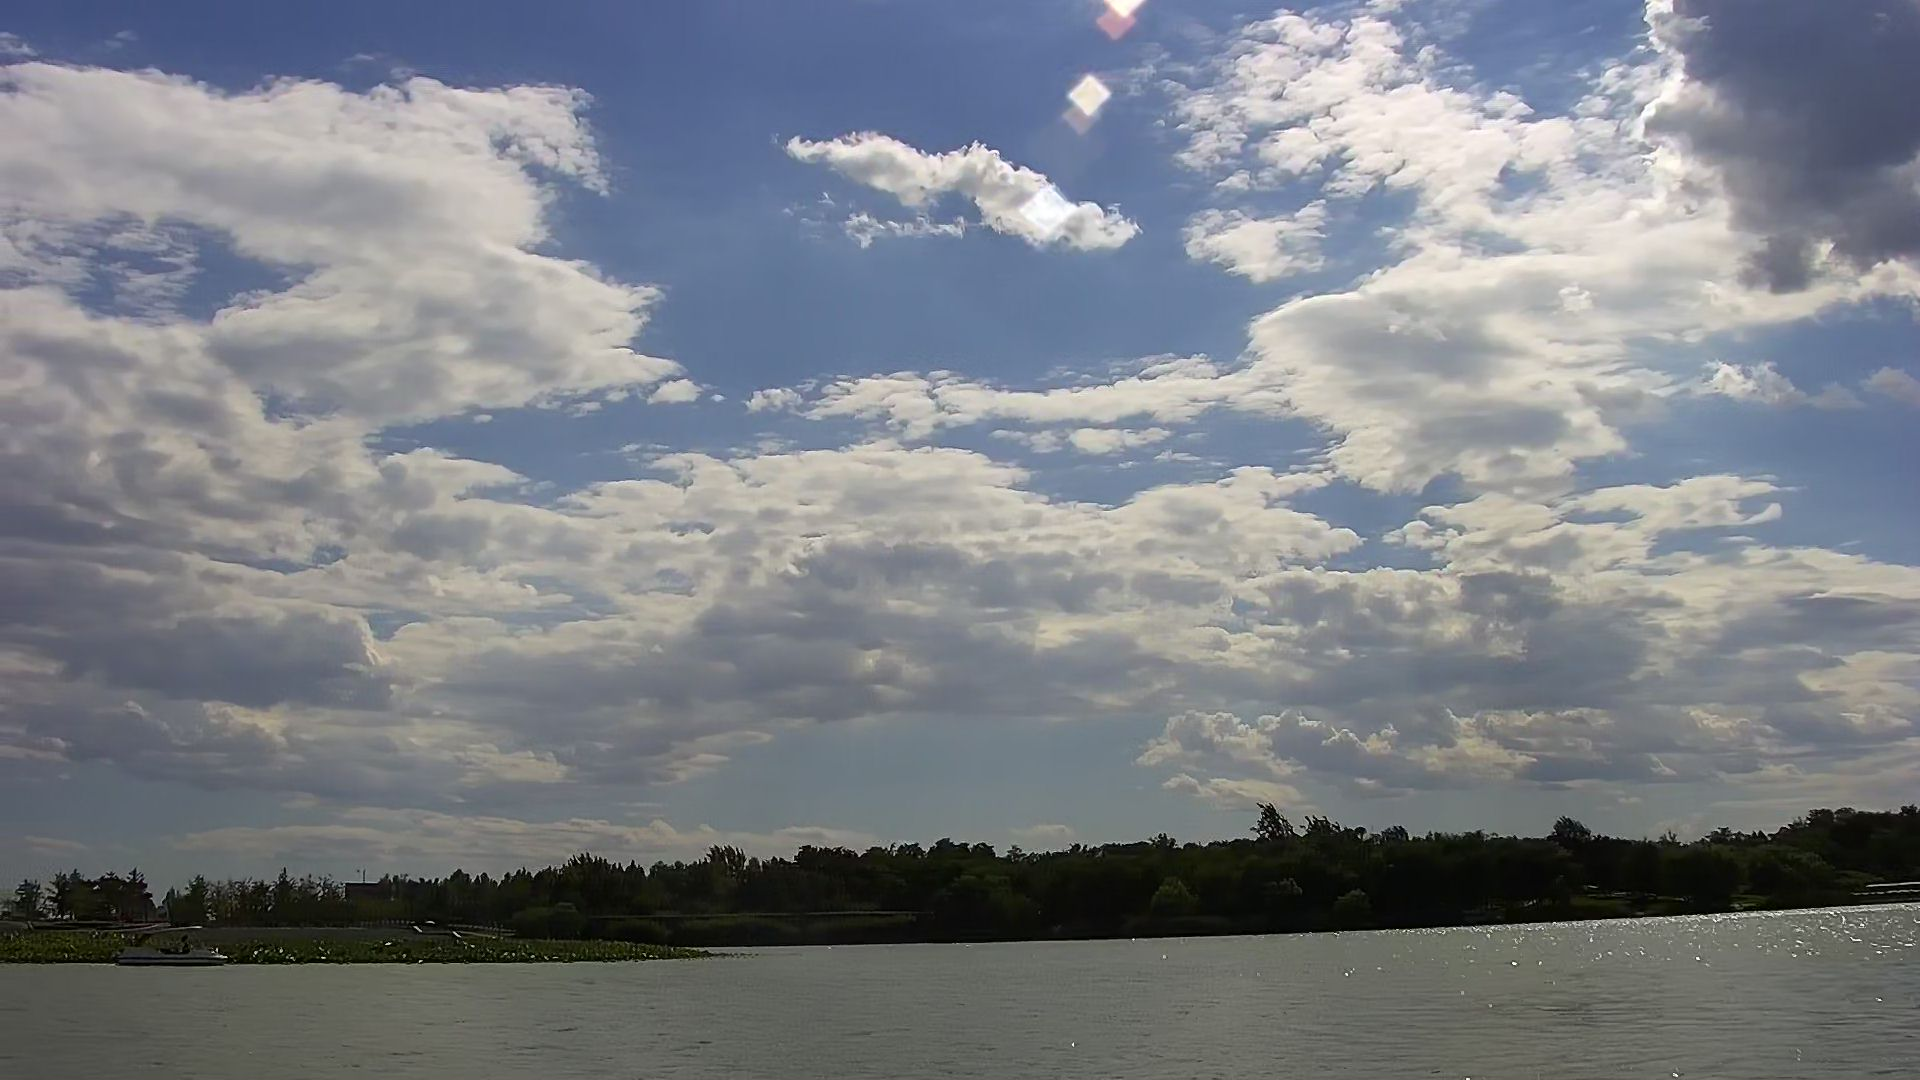boat: (107, 920, 233, 971)
harbor: (1851, 872, 1920, 910)
